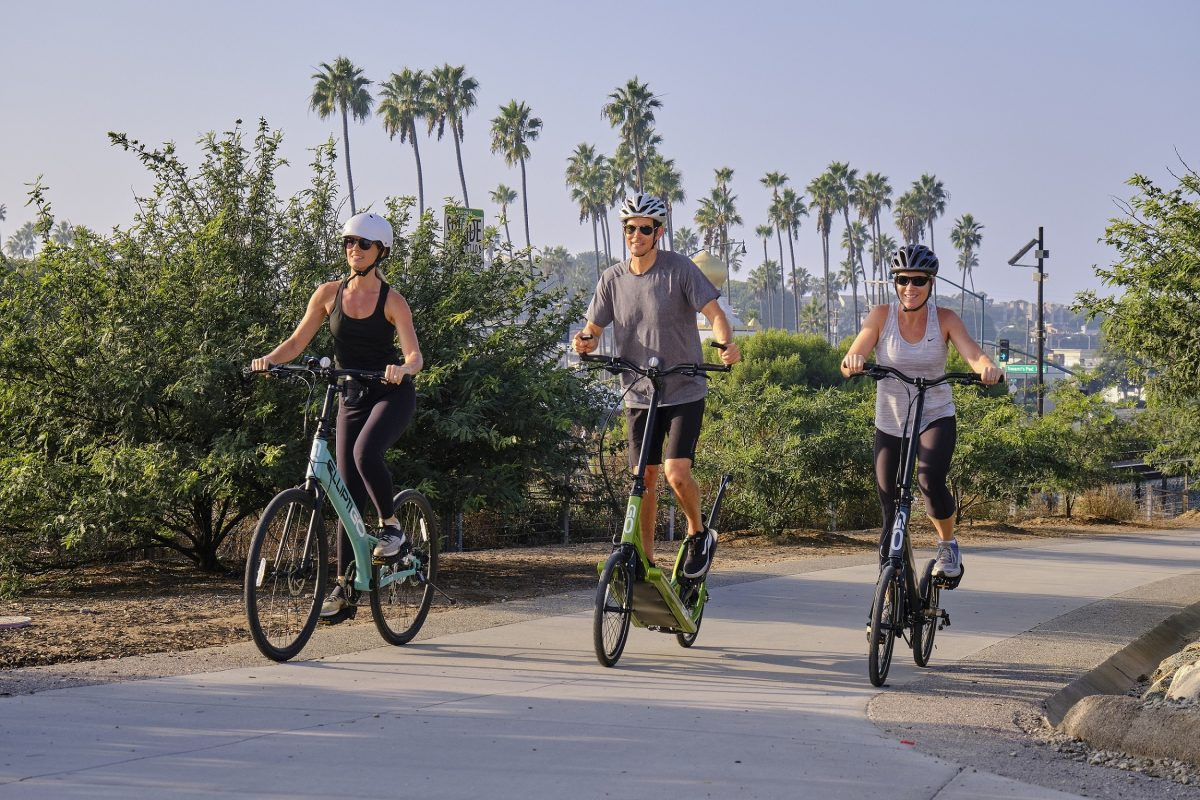Bicycle: (239, 363, 436, 658), (861, 354, 989, 684), (595, 357, 722, 667)
